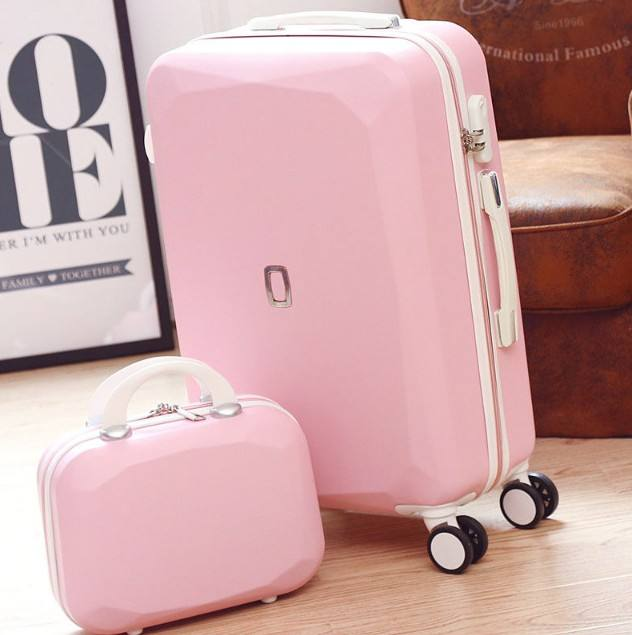box: (145, 19, 536, 516)
handle: (475, 170, 523, 349), (246, 12, 402, 32)
lock: (462, 94, 493, 163)
wheel: (426, 515, 488, 574), (499, 473, 558, 530)
